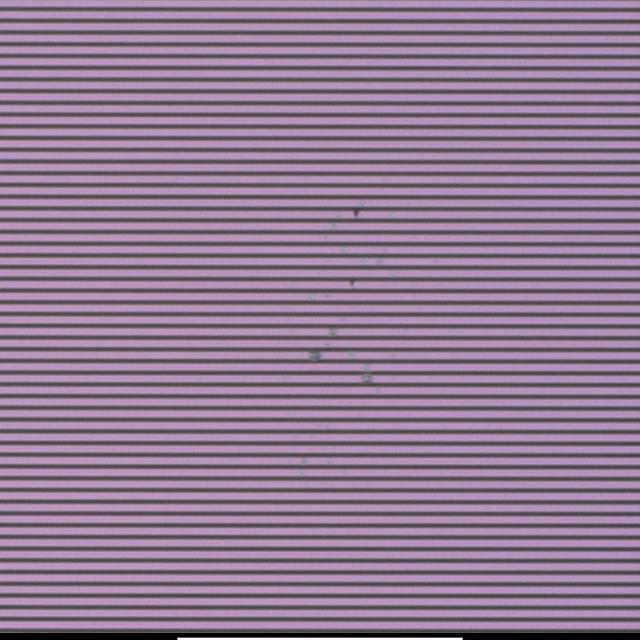03_intrusion: (290, 195, 418, 393)
